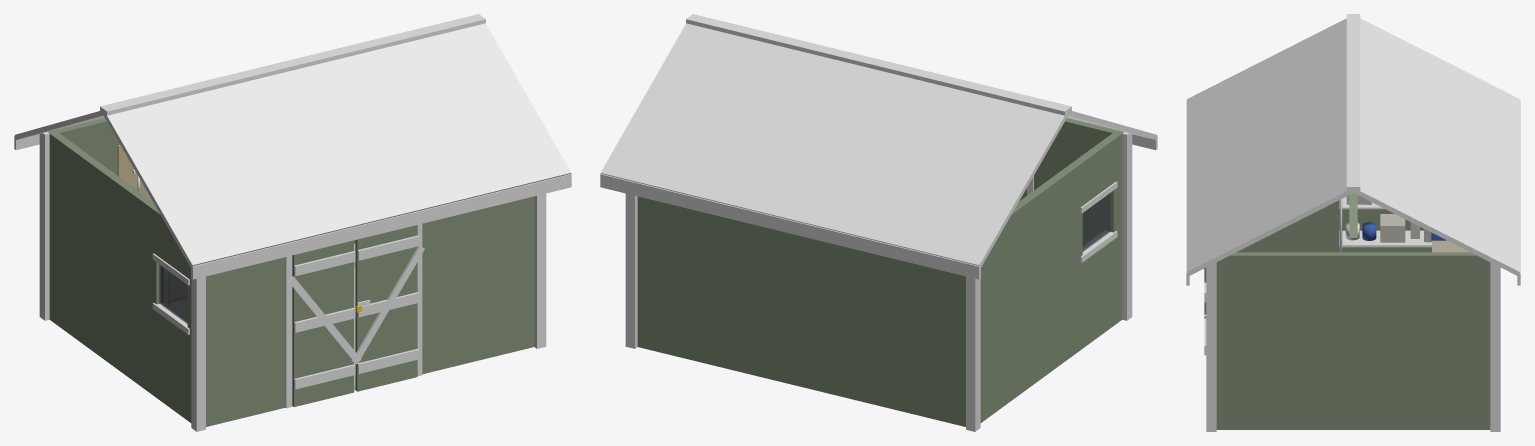
The model's file is hood_shed.glb.
3 renders of one model, left to right at view 1: azimuth 30°, elevation 25°; view 2: azimuth 150°, elevation 25°; view 3: azimuth 270°, elevation 25°, orthographic. The views are drawn at different scales.
Parts seen in each view (by area): view 1: roof.004, gable.004, corner.006, door_leaf, door_leaf.001, lamp_arm.003, door_brace.007, door_brace.006, window_pane, pegboard; view 2: gable.004, roof.004, corner.006, lamp_arm.003, window_pane; view 3: roof.004, gable.004, corner.006, lamp_arm.003, hammer_head.003, carton.008, bench_shelf.003, paint_can.008.
Part boxes in pixels (<box>): roof.004: <box>14,23,571,267</box>; gable.004: <box>48,118,534,426</box>; corner.006: <box>14,132,571,431</box>; door_leaf: <box>292,240,354,406</box>; door_leaf.001: <box>355,225,417,391</box>; lamp_arm.003: <box>100,14,485,115</box>; door_brace.007: <box>351,235,424,373</box>; door_brace.006: <box>288,251,361,389</box>; window_pane: <box>159,265,187,323</box>; pegboard: <box>117,145,152,201</box>; gable.004: <box>637,118,1123,426</box>; roof.004: <box>600,23,1157,267</box>; corner.006: <box>600,132,1157,431</box>; lamp_arm.003: <box>686,14,1071,115</box>; window_pane: <box>1082,193,1110,251</box>; roof.004: <box>1187,18,1519,275</box>; gable.004: <box>1216,193,1490,429</box>; corner.006: <box>1186,100,1520,431</box>; lamp_arm.003: <box>1346,14,1360,190</box>; hammer_head.003: <box>1339,196,1431,252</box>; carton.008: <box>1346,195,1431,242</box>; bench_shelf.003: <box>1432,240,1469,252</box>; paint_can.008: <box>1362,222,1446,240</box>.
Size of the model in its own units: 4.9 by 3.33 by 4.
